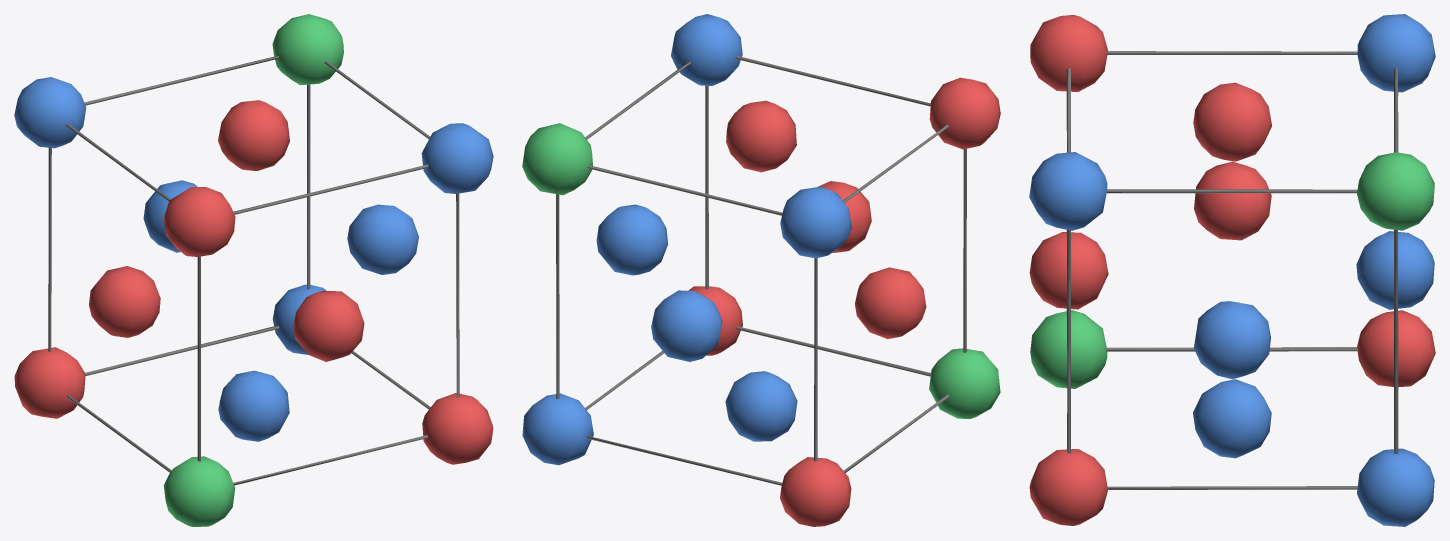
Rendered from fcc_schematic.glb.
3 renders of one model, left to right at view 1: azimuth 30°, elevation 25°; view 2: azimuth 150°, elevation 25°; view 3: azimuth 270°, elevation 25°, orthographic. The views are drawn at different scales.
Visible parts, largest first — view 1: atom_9, atom_12, atom_4, atom_5, atom_10, atom_0, atom_8, atom_7, atom_1, atom_13, atom_2, atom_6 (+10 smaller); view 2: atom_8, atom_9, atom_13, atom_6, atom_2, atom_11, atom_12, atom_7, atom_3, atom_4, atom_0, atom_5 (+10 smaller); view 3: atom_3, atom_7, atom_9, atom_5, atom_8, atom_13, atom_1, atom_6, atom_4, atom_12, atom_11, atom_0 (+8 smaller).
Boxes of the visible parts, <box> form: atom_9: <box>218,100,289,170</box>; atom_12: <box>89,266,160,337</box>; atom_4: <box>164,187,235,256</box>; atom_5: <box>421,123,493,193</box>; atom_10: <box>293,290,364,361</box>; atom_0: <box>163,456,235,526</box>; atom_8: <box>218,370,289,441</box>; atom_7: <box>272,14,343,85</box>; atom_1: <box>422,393,493,464</box>; atom_13: <box>347,204,418,274</box>; atom_2: <box>14,347,85,418</box>; atom_6: <box>14,77,86,148</box>; atom_8: <box>725,371,797,441</box>; atom_9: <box>726,100,796,172</box>; atom_13: <box>596,204,667,275</box>; atom_6: <box>780,186,851,258</box>; atom_2: <box>780,457,851,526</box>; atom_11: <box>651,290,722,361</box>; atom_12: <box>855,267,926,339</box>; atom_7: <box>522,123,592,195</box>; atom_3: <box>522,393,593,465</box>; atom_4: <box>929,77,1000,149</box>; atom_0: <box>929,348,1000,418</box>; atom_5: <box>671,14,742,85</box>; atom_3: <box>1357,448,1434,526</box>; atom_7: <box>1357,152,1434,230</box>; atom_9: <box>1193,82,1271,161</box>; atom_5: <box>1029,152,1107,230</box>; atom_8: <box>1193,379,1271,458</box>; atom_13: <box>1194,301,1270,379</box>; atom_1: <box>1029,449,1107,525</box>; atom_6: <box>1357,14,1435,92</box>; atom_4: <box>1030,15,1107,91</box>; atom_12: <box>1194,161,1271,240</box>; atom_11: <box>1356,231,1434,309</box>; atom_0: <box>1030,310,1107,388</box>.
Bounding box in the file's own units: 12.43 × 12.43 × 12.43.
